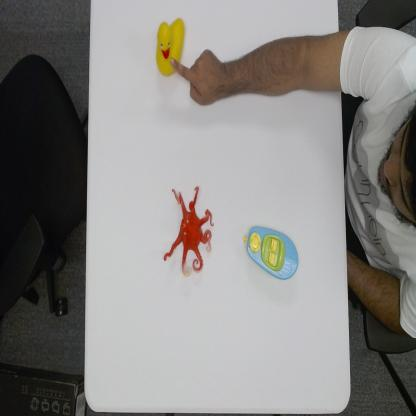Arm: (237, 26, 372, 108)
Boat: (242, 223, 300, 281)
Duck: (155, 15, 186, 78)
Hand: (170, 48, 233, 108)
Octopus: (163, 184, 215, 279)
